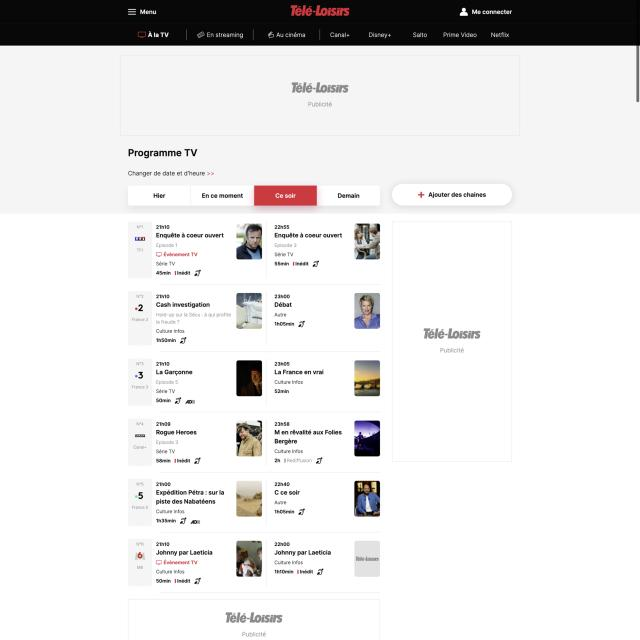logo: (288, 3, 352, 20)
navigation: (133, 28, 516, 44), (125, 6, 157, 17)
